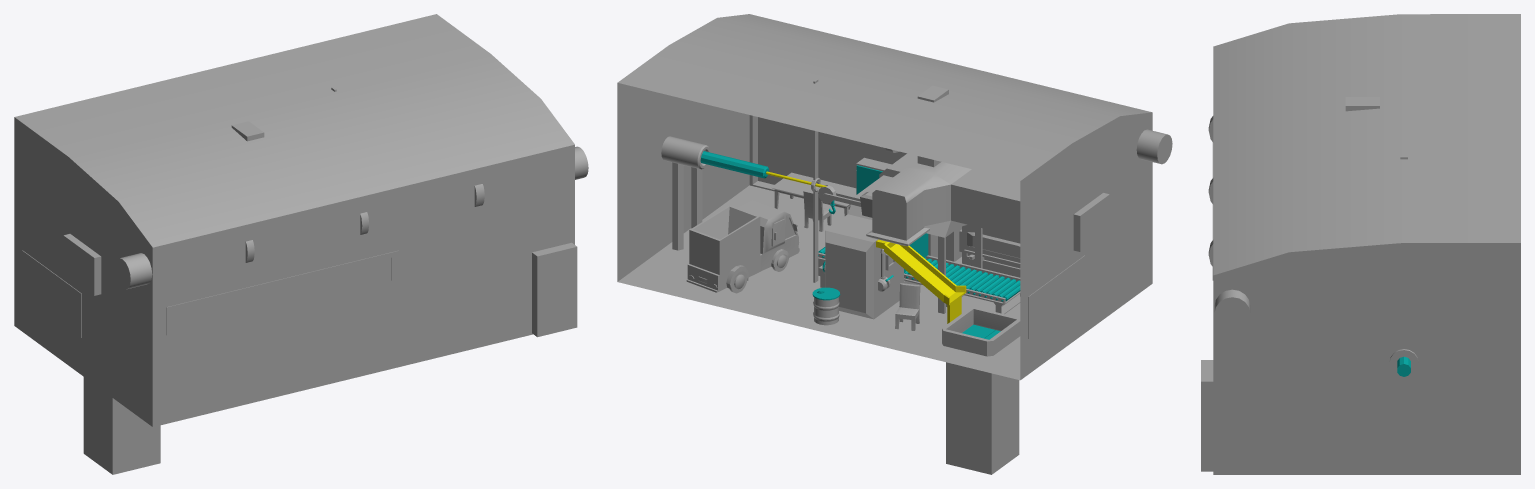
File: FactoryIndoor.fbx
3 views of the same model, side by side, from view 1: azimuth 30°, elevation 25°; view 2: azimuth 150°, elevation 25°; view 3: azimuth 270°, elevation 25° (orthographic). The views are drawn at different scales.
Visible parts, largest first — view 1: RoomBody, BlackBoardFrame, TransitMachine, TopPipe, pCube295; view 2: RoomBody, TransitMachine, TrunkBody, TrashDoorFrame, BlackBoardFrame, CNT_SliderBody, pCube293, pCube289, RopePipe, RopePipeStand2, TopPipe, Chair3 (+5 smaller); view 3: RoomBody, TopPipe, TransitMachine, RopePipe.
Part boxes in pixels (x1=…): RoomBody: x1=14, y1=14, x2=577, y2=474; BlackBoardFrame: x1=22, y1=250, x2=81, y2=337; TransitMachine: x1=63, y1=121, x2=264, y2=295; TopPipe: x1=114, y1=146, x2=588, y2=289; pCube295: x1=166, y1=250, x2=398, y2=335; RoomBody: x1=617, y1=14, x2=1152, y2=474; TransitMachine: x1=825, y1=85, x2=1109, y2=319; TrunkBody: x1=686, y1=200, x2=799, y2=292; TrashDoorFrame: x1=942, y1=307, x2=1020, y2=356; BlackBoardFrame: x1=1028, y1=255, x2=1085, y2=338; CNT_SliderBody: x1=876, y1=239, x2=966, y2=323; pCube293: x1=962, y1=224, x2=1020, y2=277; pCube289: x1=771, y1=172, x2=856, y2=215; RopePipe: x1=661, y1=136, x2=710, y2=169; RopePipeStand2: x1=672, y1=162, x2=683, y2=250; TopPipe: x1=1136, y1=129, x2=1172, y2=164; Chair3: x1=895, y1=283, x2=920, y2=330; RoomBody: x1=1201, y1=14, x2=1520, y2=474; TopPipe: x1=1208, y1=116, x2=1250, y2=329; TransitMachine: x1=1345, y1=97, x2=1379, y2=111; RopePipe: x1=1389, y1=349, x2=1418, y2=375.
Bounding box in the file's own units: 78.35 × 54.86 × 42.55.
